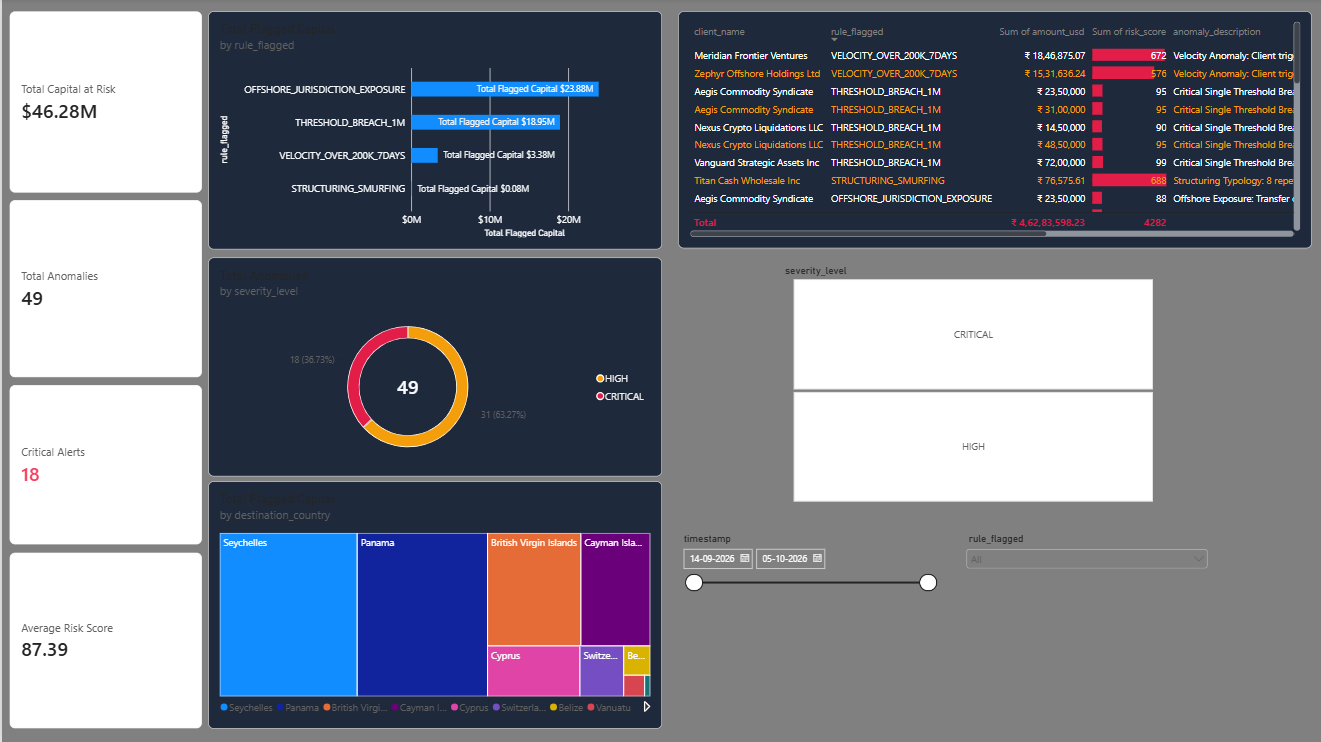

This screenshot's page, from the dashboard's own definition file:
{"tool":"powerbi","page":{"name":"Page 1","canvas":[1920,1080],"ordinal":0},"visuals":[{"type":"cardVisual","fields":{"Data":["Fact_CreditRiskAnomalies.Total Flagged Capital"]},"box":[10,16,280,264],"z":0},{"type":"cardVisual","fields":{"Data":["Fact_CreditRiskAnomalies.Total Anomalies"]},"box":[10,290,280,258],"z":1},{"type":"cardVisual","fields":{"Data":["Fact_CreditRiskAnomalies.Critical Alerts"]},"box":[10,560,280,232],"z":2},{"type":"cardVisual","fields":{"Data":["Fact_CreditRiskAnomalies.Average Risk Score"]},"box":[10,804,280,256],"z":3},{"type":"clusteredBarChart","fields":{"Category":["Fact_CreditRiskAnomalies.rule_flagged"],"Y":["Fact_CreditRiskAnomalies.Total Flagged Capital"]},"box":[300,16,660,346],"z":4},{"type":"donutChart","fields":{"Category":["Fact_CreditRiskAnomalies.severity_level"],"Y":["Fact_CreditRiskAnomalies.Total Anomalies"]},"box":[300,374,660,318],"z":5},{"type":"treemap","fields":{"Group":["Fact_CreditRiskAnomalies.destination_country"],"Values":["Fact_CreditRiskAnomalies.Total Flagged Capital"]},"box":[300,700,660,360],"z":6},{"type":"tableEx","fields":{"Values":["Fact_CreditRiskAnomalies.client_name","Fact_CreditRiskAnomalies.rule_flagged","Sum(Fact_CreditRiskAnomalies.amount_usd)","Sum(Fact_CreditRiskAnomalies.risk_score)","Fact_CreditRiskAnomalies.anomaly_description"]},"box":[984,16,856,346],"z":7},{"type":"slicer","fields":{"Values":["Fact_CreditRiskAnomalies.severity_level"]},"box":[1130,386,562,346],"z":8},{"type":"slicer","fields":{"Values":["Fact_CreditRiskAnomalies.rule_flagged"]},"box":[1398,774,360,242],"z":9},{"type":"slicer","fields":{"Values":["Fact_CreditRiskAnomalies.timestamp"]},"box":[984,774,380,242],"z":10}]}

Visuals, with their boxes in screenshot pixels (x1, y1, x2, y2), scaled from the page's 1920x1080 canvas onto the 1321x742 screenshot:
cardVisual - Fact_CreditRiskAnomalies.Total Flagged Capital: 7/11/200/192
cardVisual - Fact_CreditRiskAnomalies.Total Anomalies: 7/199/200/376
cardVisual - Fact_CreditRiskAnomalies.Critical Alerts: 7/385/200/544
cardVisual - Fact_CreditRiskAnomalies.Average Risk Score: 7/552/200/728
clusteredBarChart - Fact_CreditRiskAnomalies.rule_flagged x Fact_CreditRiskAnomalies.Total Flagged Capital: 206/11/660/249
donutChart - Fact_CreditRiskAnomalies.severity_level x Fact_CreditRiskAnomalies.Total Anomalies: 206/257/660/475
treemap - Fact_CreditRiskAnomalies.destination_country x Fact_CreditRiskAnomalies.Total Flagged Capital: 206/481/660/728
tableEx - Fact_CreditRiskAnomalies.client_name x Fact_CreditRiskAnomalies.rule_flagged: 677/11/1266/249
slicer - Fact_CreditRiskAnomalies.severity_level: 777/265/1164/503
slicer - Fact_CreditRiskAnomalies.rule_flagged: 962/532/1210/698
slicer - Fact_CreditRiskAnomalies.timestamp: 677/532/938/698
